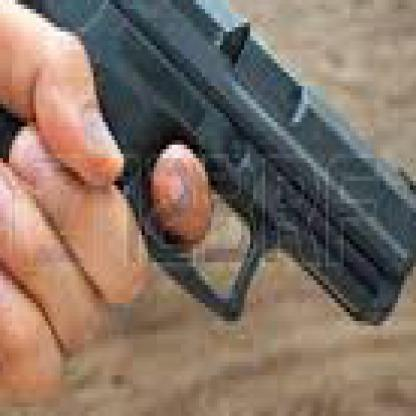gun: (0, 0, 413, 398)
